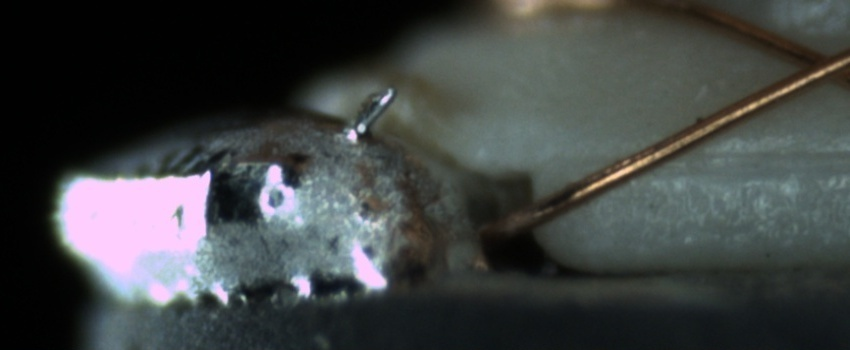CL: (772, 32, 850, 94)
DL: (609, 124, 846, 191)
